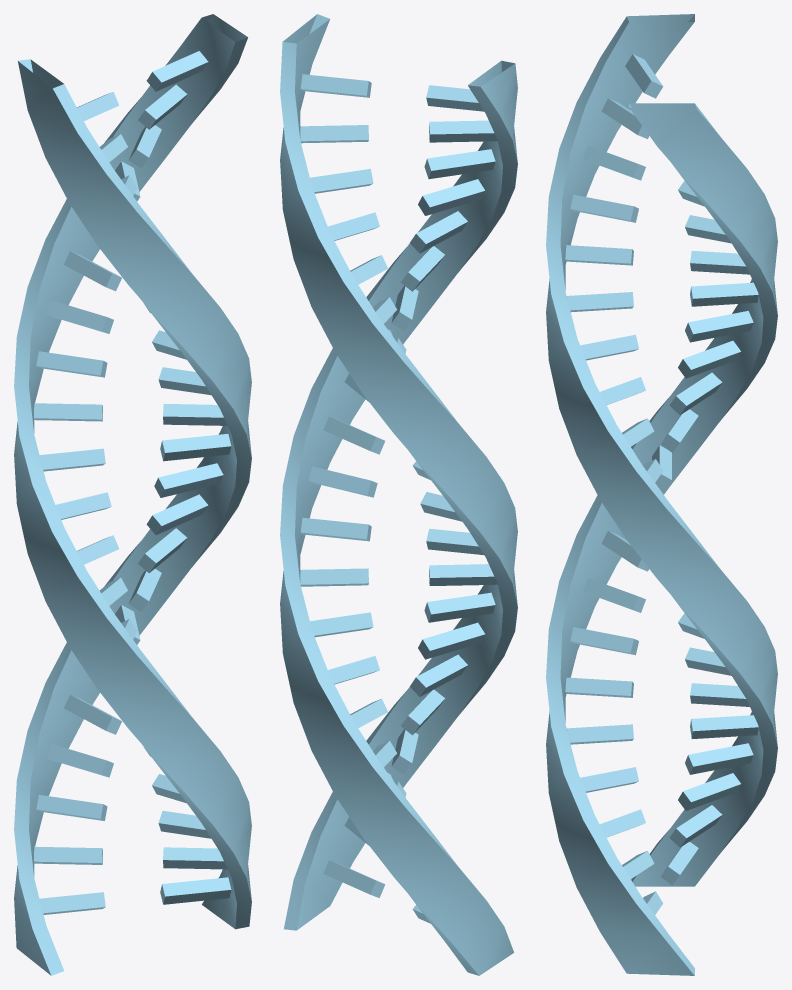
File: double_helix.obj
The picture shows the model from 3 angles, left to right: view 1: azimuth 30°, elevation 25°; view 2: azimuth 150°, elevation 25°; view 3: azimuth 270°, elevation 25°; orthographic projection. The views are drawn at different scales.
Visible parts, largest first — view 1: helix_walls, pair_00, pair_32, pair_31, pair_01, pair_33, pair_20, pair_12, pair_30, pair_13, pair_23, pair_22 (+15 smaller); view 2: helix_walls, pair_07, pair_39, pair_40, pair_08, pair_06, pair_38, pair_20, pair_30, pair_29, pair_19, pair_37 (+17 smaller); view 3: helix_walls, pair_25, pair_15, pair_24, pair_14, pair_13, pair_23, pair_05, pair_37, pair_16, pair_26, pair_06 (+19 smaller).
Boxes of the visible parts, left/top/right/bottom form: helix_walls: left=14, top=14, right=251, bottom=975; pair_00: left=160, top=877, right=231, bottom=904; pair_32: left=160, top=434, right=231, bottom=461; pair_31: left=154, top=463, right=223, bottom=497; pair_01: left=163, top=847, right=227, bottom=869; pair_33: left=163, top=404, right=227, bottom=425; pair_20: left=146, top=51, right=208, bottom=91; pair_12: left=34, top=403, right=102, bottom=421; pair_30: left=146, top=494, right=208, bottom=534; pair_13: left=36, top=351, right=107, bottom=377; pair_23: left=36, top=794, right=107, bottom=820; pair_22: left=34, top=846, right=102, bottom=864; helix_walls: left=280, top=14, right=517, bottom=975; pair_07: left=424, top=592, right=495, bottom=622; pair_39: left=424, top=149, right=495, bottom=179; pair_40: left=429, top=120, right=497, bottom=142; pair_08: left=429, top=564, right=497, bottom=585; pair_06: left=418, top=622, right=485, bottom=659; pair_38: left=418, top=179, right=485, bottom=215; pair_20: left=300, top=74, right=371, bottom=97; pair_30: left=300, top=517, right=371, bottom=541; pair_29: left=300, top=568, right=368, bottom=586; pair_19: left=300, top=125, right=368, bottom=143; pair_37: left=410, top=211, right=467, bottom=253; helix_walls: left=546, top=14, right=777, bottom=975; pair_25: left=690, top=715, right=758, bottom=738; pair_15: left=690, top=282, right=758, bottom=306; pair_24: left=685, top=743, right=753, bottom=774; pair_14: left=685, top=311, right=753, bottom=342; pair_13: left=678, top=340, right=741, bottom=378; pair_23: left=678, top=773, right=740, bottom=810; pair_05: left=565, top=677, right=633, bottom=697; pair_37: left=565, top=245, right=633, bottom=265; pair_16: left=690, top=251, right=749, bottom=274; pair_26: left=690, top=683, right=749, bottom=706; pair_06: left=570, top=627, right=638, bottom=655.
Size of the model in its own units: 31.54 by 130 by 31.54.
